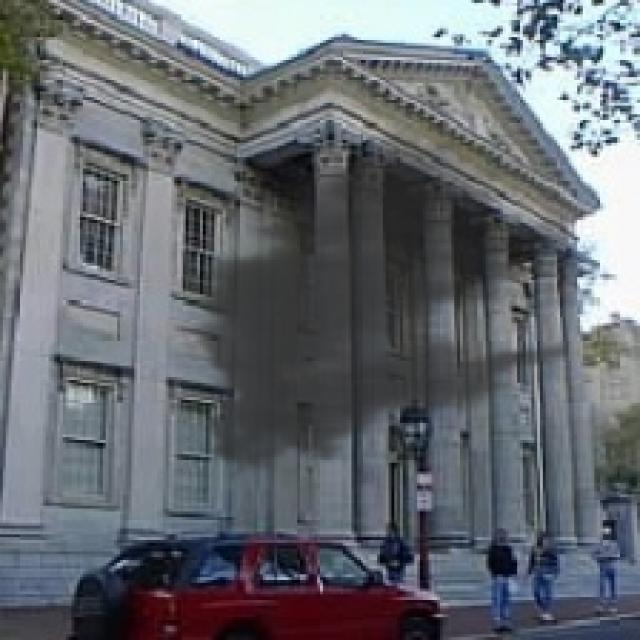smoke: (172, 120, 568, 489)
